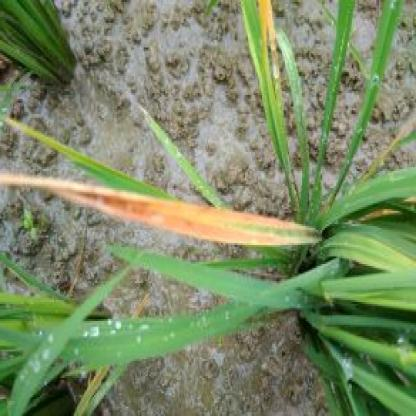Tungro: (10, 194, 303, 251)
